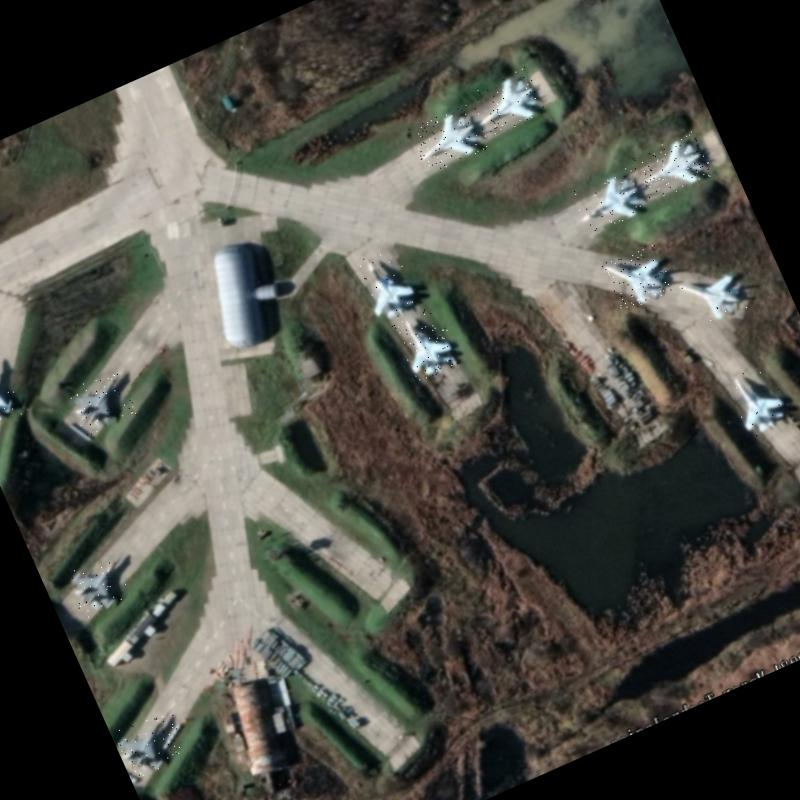A1: (631, 129, 716, 204), (464, 66, 547, 140), (406, 103, 488, 176), (675, 258, 753, 334), (113, 706, 192, 781), (723, 360, 797, 440), (391, 304, 462, 383), (602, 241, 676, 314), (64, 368, 140, 438), (64, 552, 134, 620), (0, 356, 23, 433)
A19: (352, 243, 424, 325), (570, 166, 648, 236)
